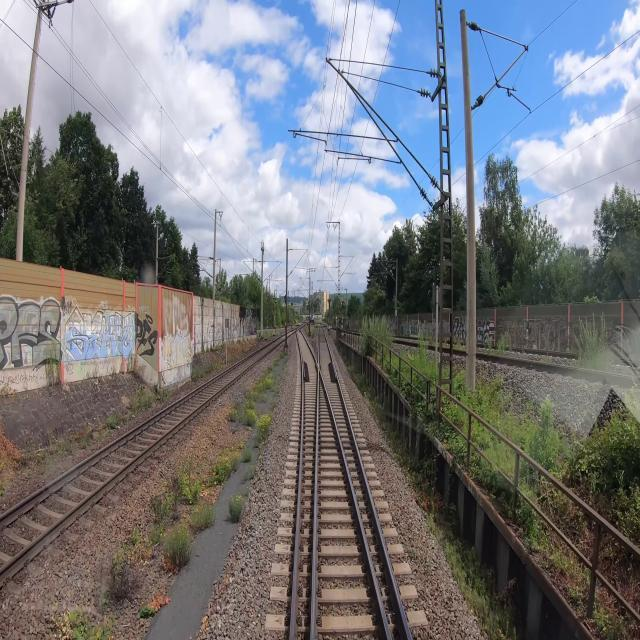Plant: (239, 366, 275, 433), (151, 479, 200, 522), (52, 609, 116, 639), (104, 550, 138, 603), (206, 447, 251, 487), (125, 526, 163, 565), (162, 526, 191, 573), (188, 500, 215, 529), (140, 594, 168, 619), (48, 436, 78, 455), (256, 413, 271, 448), (33, 451, 52, 475), (228, 492, 242, 521), (240, 463, 256, 484), (274, 351, 288, 367), (80, 432, 93, 448), (228, 407, 238, 423), (141, 401, 152, 411), (271, 383, 280, 395), (107, 418, 116, 429), (131, 407, 139, 417), (0, 480, 4, 497), (238, 439, 244, 448), (271, 401, 277, 410), (96, 434, 102, 441)
